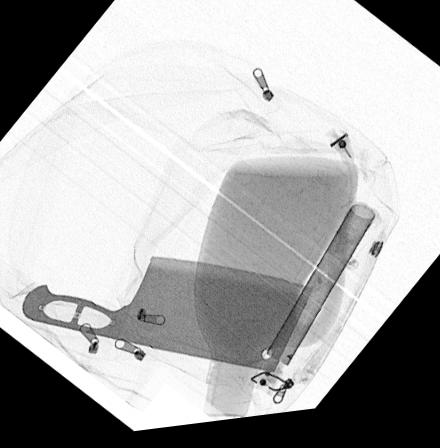Knife: (20, 257, 315, 378)
